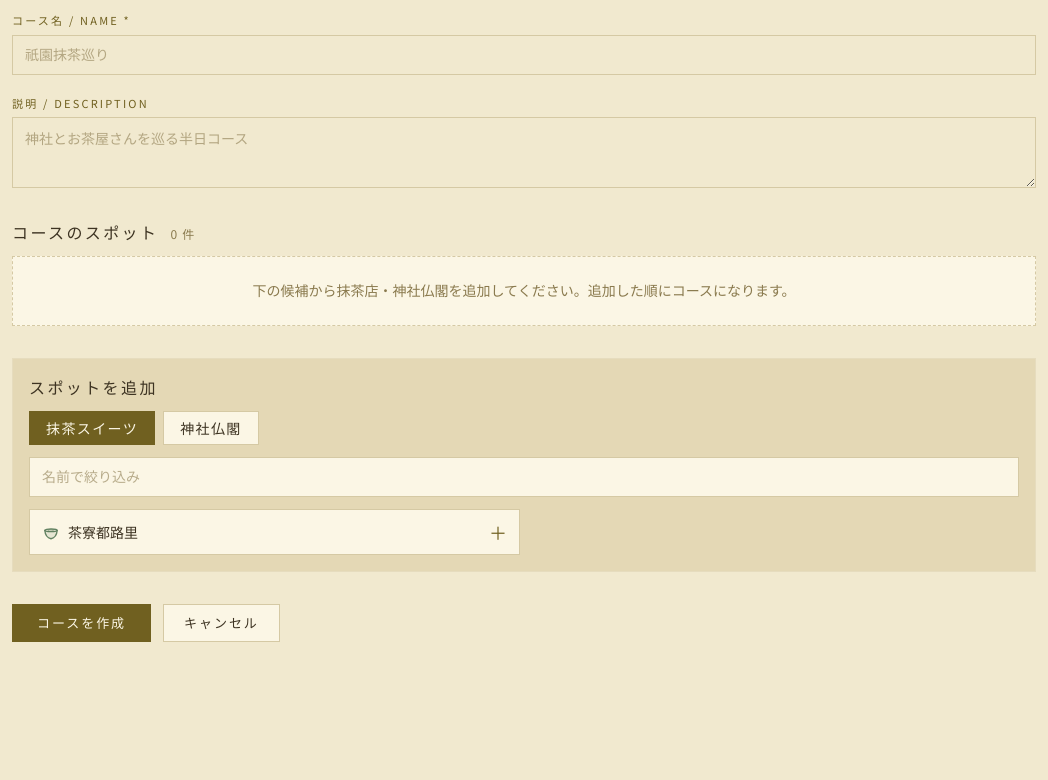
Scenario: RouteBuilder（作成） › スポット未追加で保存するとバリデーションエラーを出す
Type "テストコース" into the field labelled "コース名 / NAME *" at (524,54), box 12,34 -> 1036,74
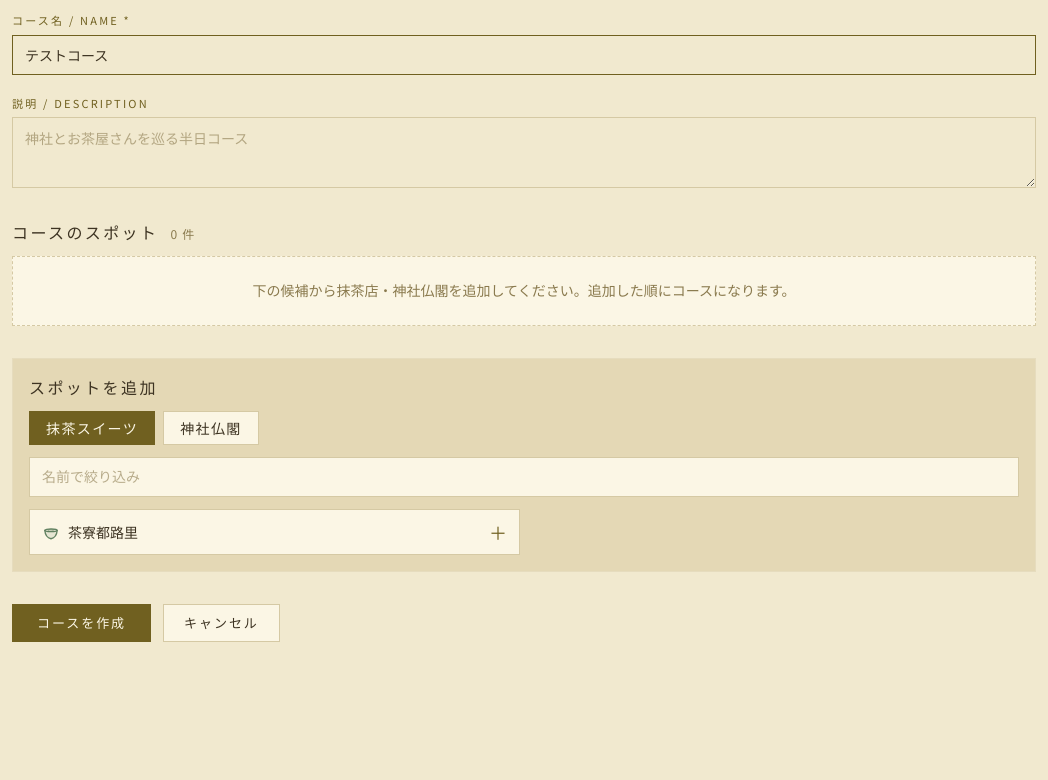
Click the button "コースを作成" at (82,623), box 12,604 -> 151,642
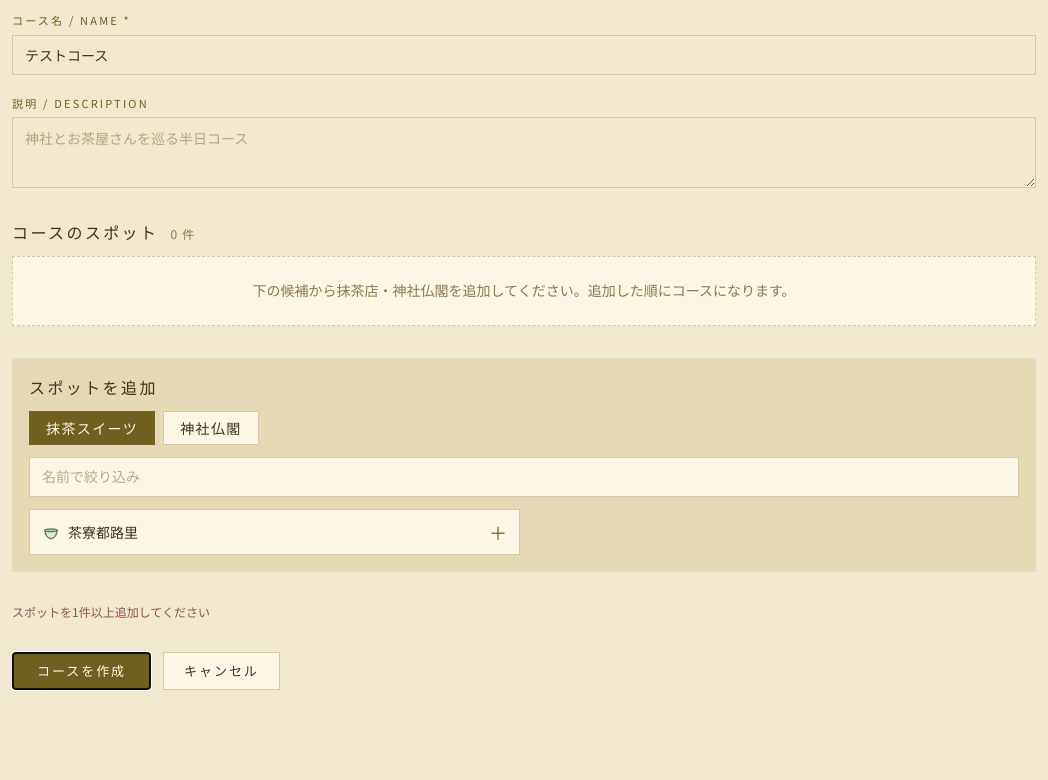
Now the text "スポットを1件以上追加してください" is shown, box 12,603 -> 210,620
